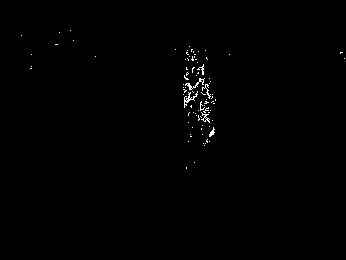person: (182, 45, 218, 148)
